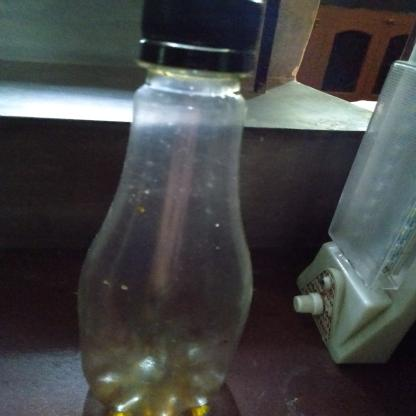bottle: (79, 1, 258, 416)
